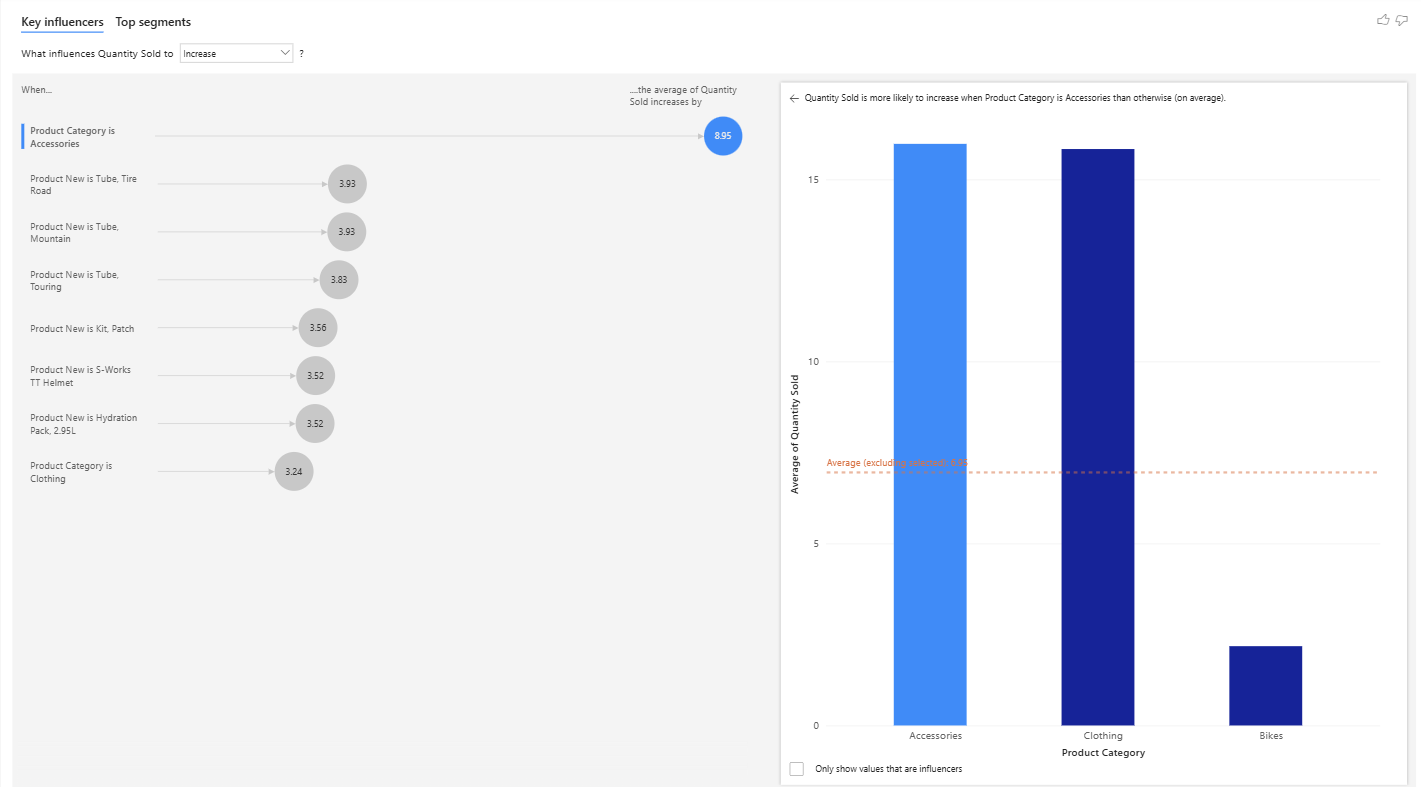

What the dashboard file says about the page in this screenshot:
{"tool":"powerbi","page":{"name":"Key Influencer","canvas":[1920,1080],"ordinal":2},"visuals":[{"type":"keyDriversVisual","fields":{"Target":["Maven Cycles Sales.Quantity Sold"],"ExplainBy":["Maven Cycles Product Categories.Product Category","Maven Cycles Products.Product New"]},"box":[10.9,0,1909.2,1080.4],"z":0}]}

Visuals, with their boxes in screenshot pixels (x1, y1, x2, y2), scaled from the page's 1920x1080 canvas onto the 1421x787 screenshot:
keyDriversVisual - Maven Cycles Sales.Quantity Sold x Maven Cycles Product Categories.Product Category: (8,0,1420,786)
